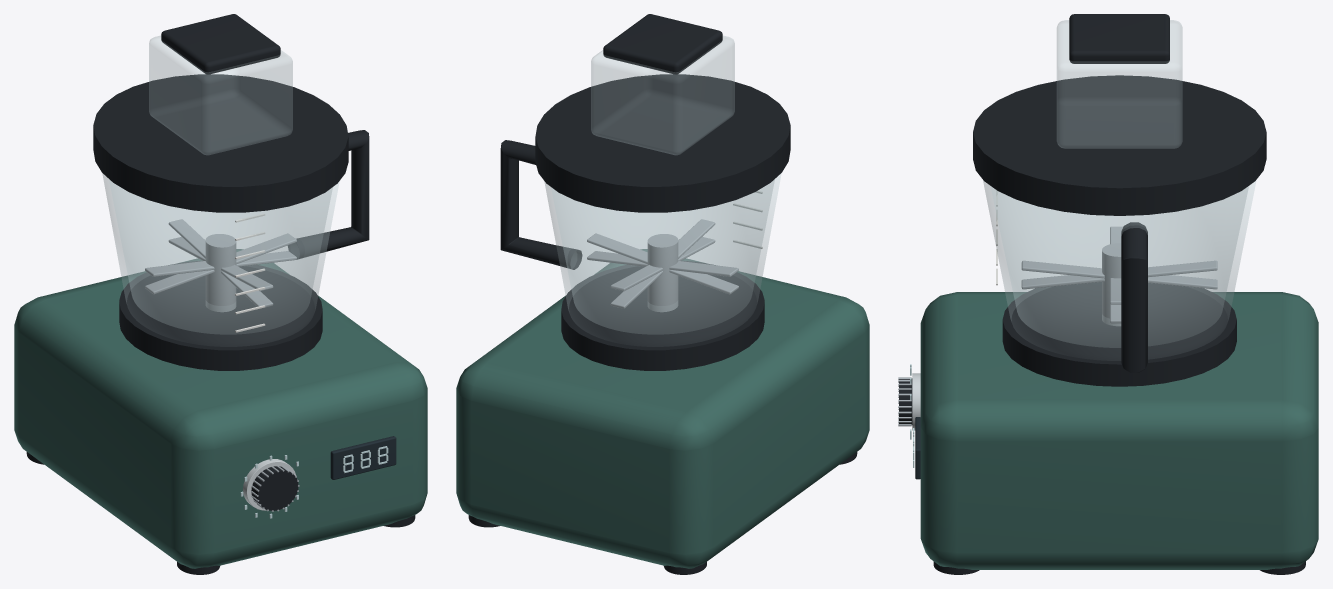
Rendered from precision-food-processor.glb.
3 views of the same model, side by side, from view 1: azimuth 30°, elevation 25°; view 2: azimuth 150°, elevation 25°; view 3: azimuth 270°, elevation 25° (orthographic). The views are drawn at different scales.
Visible parts, largest first — view 1: catalog_surface_RealismUV, catalog_surface_UVMap; view 2: catalog_surface_RealismUV, catalog_surface_UVMap; view 3: catalog_surface_RealismUV, catalog_surface_UVMap.
Boxes of the visible parts, box(x1,y1,x2,y2) form: catalog_surface_RealismUV: box(14, 14, 427, 574); catalog_surface_UVMap: box(102, 35, 396, 518); catalog_surface_RealismUV: box(456, 14, 869, 574); catalog_surface_UVMap: box(544, 35, 781, 346); catalog_surface_RealismUV: box(898, 14, 1318, 574); catalog_surface_UVMap: box(910, 20, 1256, 479).
Bounding box in the file's own units: 0.28 × 0.43 × 0.34.
